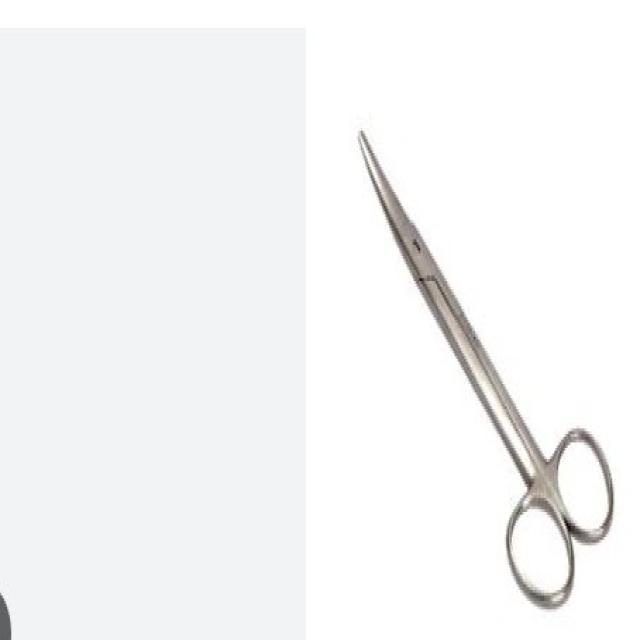Curved Mayo: (355, 117, 615, 617)
